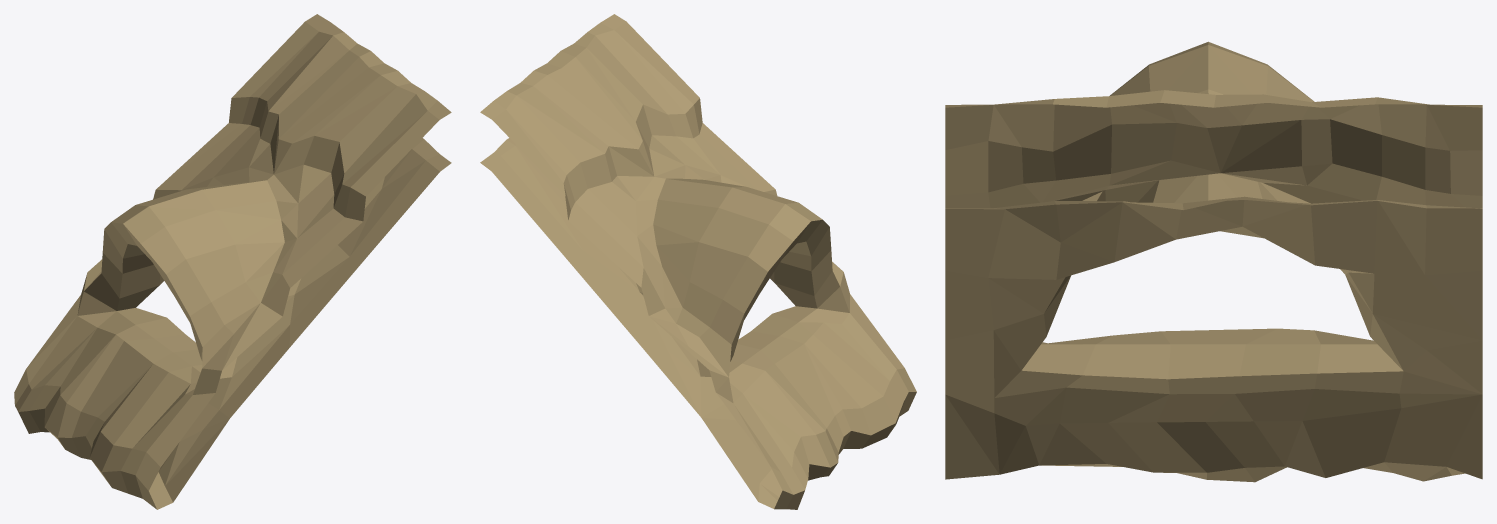
The model's file is rpgpp_ag_roof_02d_6x3x3_half.fbx.
3 renders of one model, left to right at view 1: azimuth 30°, elevation 25°; view 2: azimuth 150°, elevation 25°; view 3: azimuth 270°, elevation 25°, orthographic. The views are drawn at different scales.
Parts seen in each view (by area): view 1: rpgpp_ag_roof_02d_6x3x3_half; view 2: rpgpp_ag_roof_02d_6x3x3_half; view 3: rpgpp_ag_roof_02d_6x3x3_half.
Part boxes in pixels (left/top/right/bottom): rpgpp_ag_roof_02d_6x3x3_half: left=14, top=14, right=451, bottom=509; rpgpp_ag_roof_02d_6x3x3_half: left=480, top=14, right=916, bottom=509; rpgpp_ag_roof_02d_6x3x3_half: left=945, top=41, right=1482, bottom=482.
Bounding box in the file's own units: 4.07 × 4.15 × 3.
